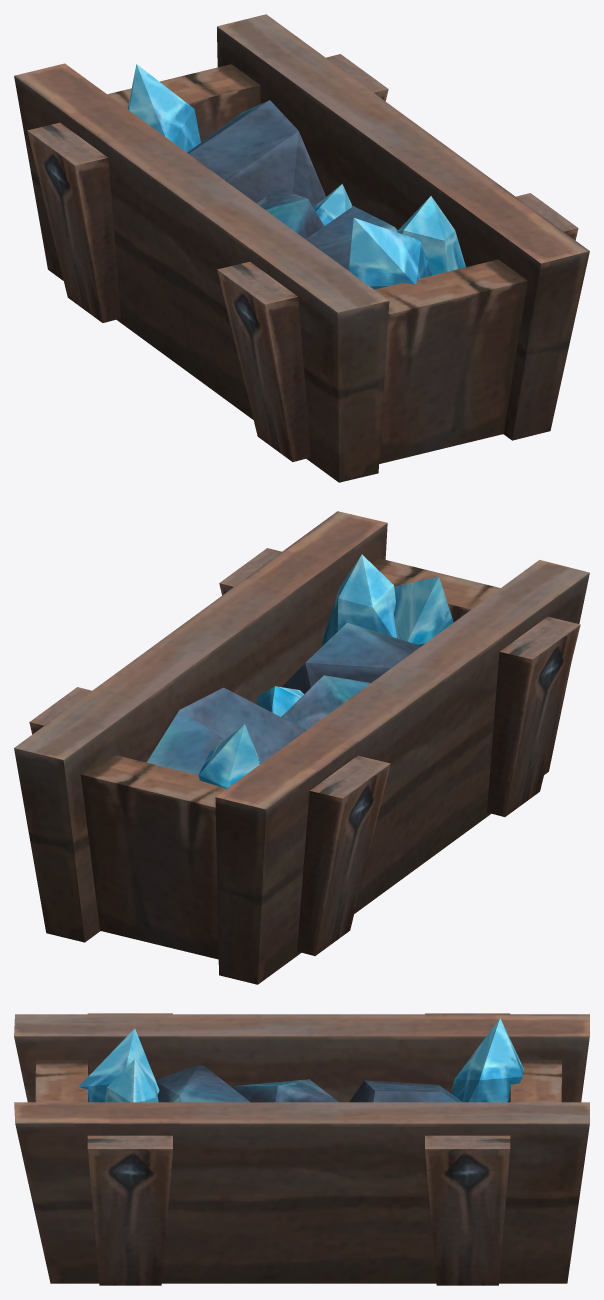
File: mine_trough02.fbx
The picture shows the model from 3 angles, top to bottom: view 1: azimuth 30°, elevation 25°; view 2: azimuth 150°, elevation 25°; view 3: azimuth 270°, elevation 25°; orthographic projection. The views are drawn at different scales.
Visible parts, largest first — view 1: mine_trough02-0; view 2: mine_trough02-0; view 3: mine_trough02-0.
Boxes of the visible parts, x1,y1,x2,y2 form: mine_trough02-0: [14, 14, 589, 482]; mine_trough02-0: [14, 511, 589, 984]; mine_trough02-0: [14, 1013, 589, 1285].
Bounding box in the file's own units: 1.57 × 1.06 × 2.81.
